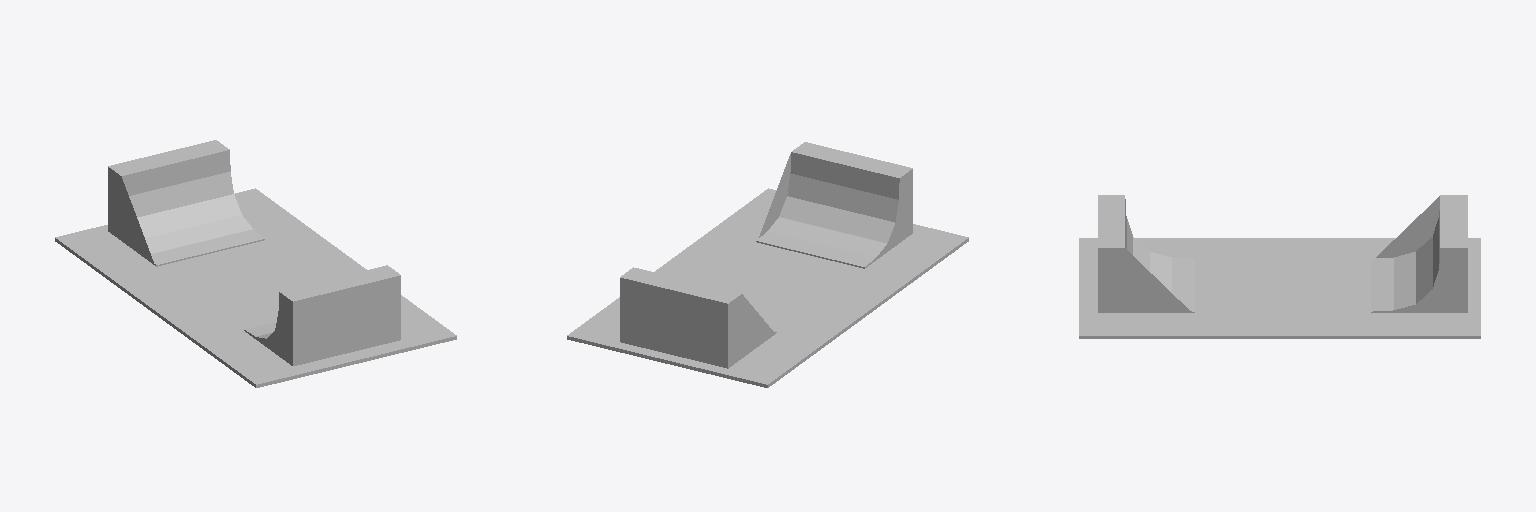
The model's file is mapTest.obj.
3 renders of one model, left to right at view 1: azimuth 30°, elevation 25°; view 2: azimuth 150°, elevation 25°; view 3: azimuth 270°, elevation 25°, orthographic.
Visible parts, largest first — view 1: Cube; view 2: Cube; view 3: Cube.
Boxes of the visible parts, box(x1,y1,x2,y2) form: Cube: box(55, 140, 456, 387); Cube: box(567, 142, 968, 387); Cube: box(1079, 195, 1480, 338).
Size of the model in its own units: 20 by 6.51 by 34.72.